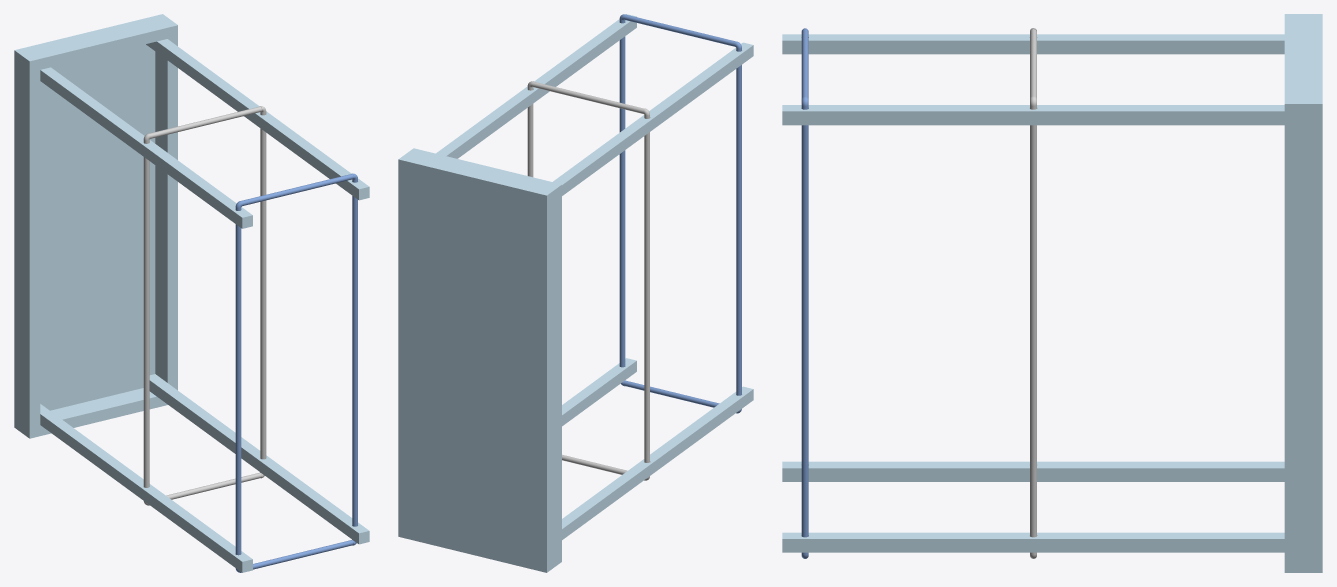
Rendered from bandrack.gltf.
3 views of the same model, side by side, from view 1: azimuth 30°, elevation 25°; view 2: azimuth 150°, elevation 25°; view 3: azimuth 270°, elevation 25° (orthographic). The views are drawn at different scales.
Visible parts, largest first — view 1: mesh54_meshnode_54, mesh70_meshnode_70, mesh71_meshnode_71, mesh44_meshnode_44, mesh56_meshnode_56, mesh65_meshnode_65, mesh48_meshnode_48, mesh74_meshnode_74, mesh27_meshnode_27, mesh43_meshnode_43, mesh8_meshnode_8, mesh18_meshnode_18 (+10 smaller); view 2: mesh75_meshnode_75, mesh71_meshnode_71, mesh74_meshnode_74, mesh48_meshnode_48, mesh65_meshnode_65, mesh0_meshnode_0, mesh43_meshnode_43, mesh49_meshnode_49, mesh8_meshnode_8, mesh27_meshnode_27, mesh66_meshnode_66, mesh38_meshnode_38 (+6 smaller); view 3: mesh73_meshnode_73, mesh39_meshnode_39, mesh46_meshnode_46, mesh58_meshnode_58, mesh63_meshnode_63, mesh66_meshnode_66, mesh74_meshnode_74, mesh38_meshnode_38, mesh59_meshnode_59, mesh49_meshnode_49, mesh0_meshnode_0, mesh18_meshnode_18.
Boxes of the visible parts, x1,y1,x2,y2 form: mesh54_meshnode_54: (40,44,155,410); mesh70_meshnode_70: (29,25,177,438); mesh71_meshnode_71: (14,50,29,438); mesh44_meshnode_44: (155,51,167,382); mesh56_meshnode_56: (149,380,358,543); mesh65_meshnode_65: (40,414,242,572); mesh48_meshnode_48: (40,70,242,228); mesh74_meshnode_74: (14,14,177,61); mesh27_meshnode_27: (143,140,149,487); mesh43_meshnode_43: (146,41,358,199); mesh8_meshnode_8: (235,208,241,555); mesh18_meshnode_18: (260,112,266,459); mesh75_meshnode_75: (398,159,546,572); mesh71_meshnode_71: (547,185,561,572); mesh74_meshnode_74: (398,148,561,195); mesh48_meshnode_48: (562,45,753,195); mesh65_meshnode_65: (562,389,753,539); mesh0_meshnode_0: (619,20,625,367); mesh43_meshnode_43: (446,21,636,158); mesh49_meshnode_49: (553,42,752,184); mesh8_meshnode_8: (736,48,741,395); mesh27_meshnode_27: (644,115,649,462); mesh66_meshnode_66: (562,386,753,528); mesh38_meshnode_38: (436,14,636,155); mesh73_meshnode_73: (1284,104,1322,572); mesh39_meshnode_39: (782,111,1284,125); mesh46_meshnode_46: (782,40,1284,54); mesh58_meshnode_58: (782,539,1284,552); mesh63_meshnode_63: (782,468,1284,481); mesh66_meshnode_66: (782,461,1284,468); mesh74_meshnode_74: (1284,14,1322,103); mesh38_meshnode_38: (782,105,1284,111); mesh59_meshnode_59: (782,532,1284,538); mesh49_meshnode_49: (782,34,1284,40); mesh0_meshnode_0: (801,105,808,554); mesh18_meshnode_18: (1030,105,1036,554).
Size of the model in its own units: 0.7112 by 1.73 by 1.8.
